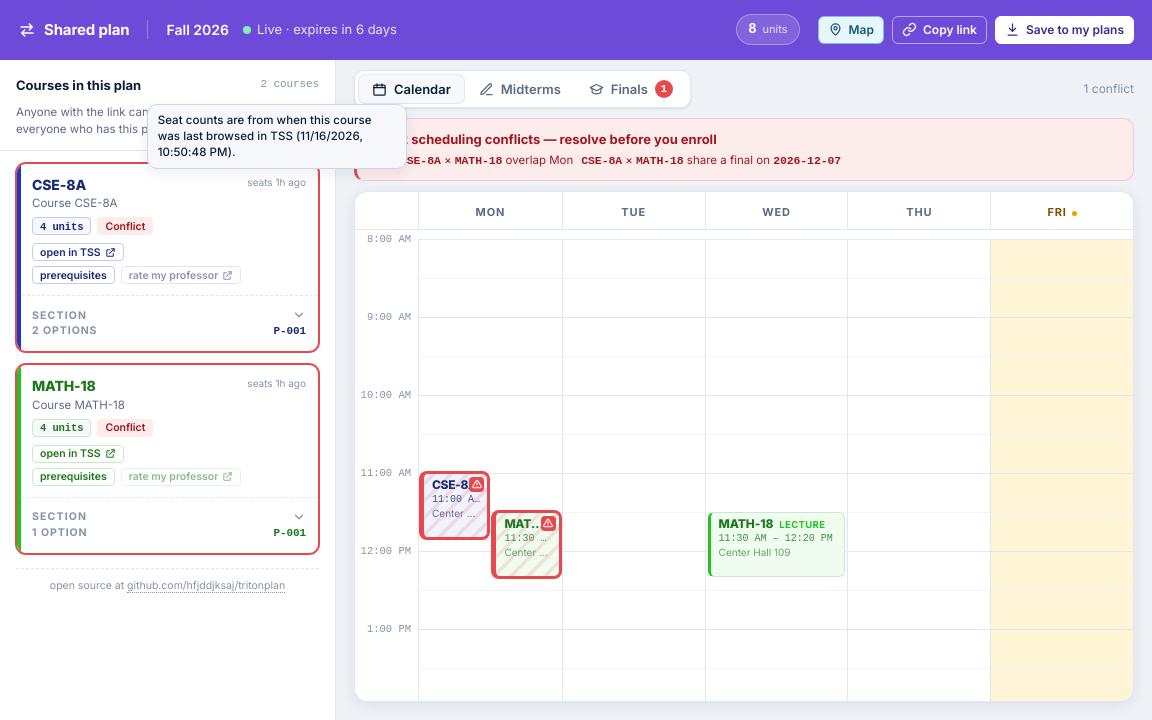
Test: SharedPlanPage: Save to my plans › replace offers the visitor's plans of the shared plan's term, asks first, and says what it replaced
Click the button "Save to my plans": [1064, 30] box x1=995 y1=16 x2=1134 y2=44
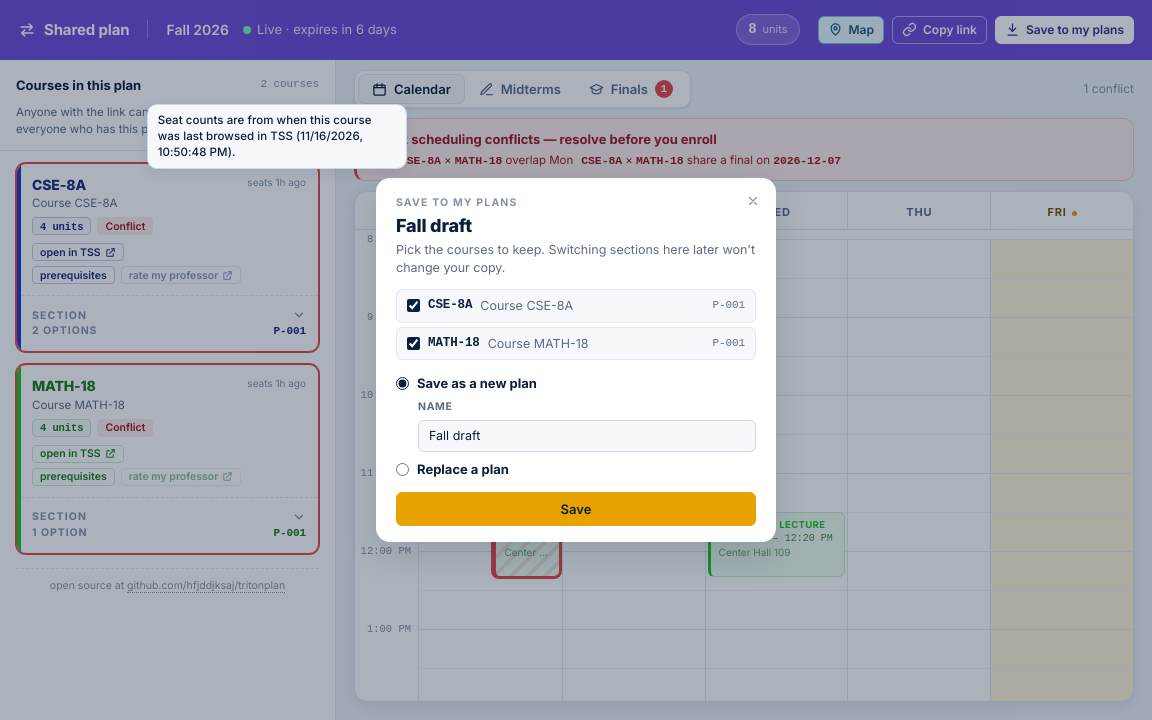
Click the label "Replace a plan": [452, 469] box x1=396 y1=461 x2=509 y2=477
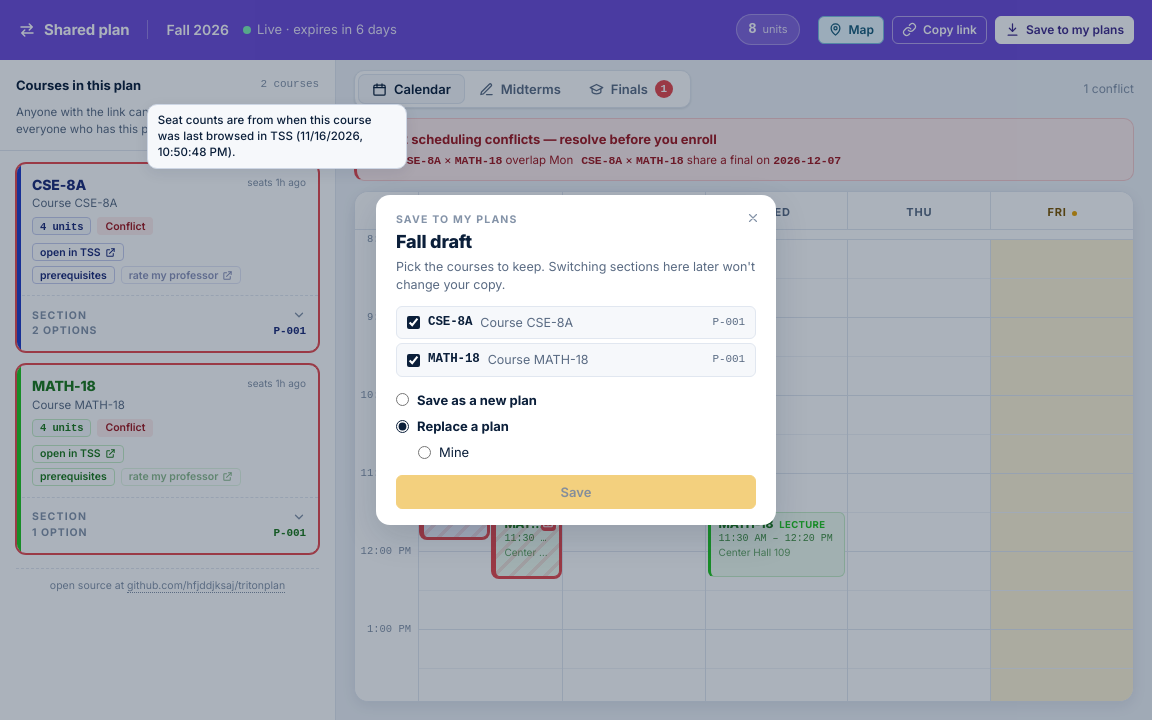
Expected: the dialog shows "Mine", x1=439 y1=444 x2=469 y2=460
Click the label "Mine": [444, 452] box x1=418 y1=444 x2=469 y2=460
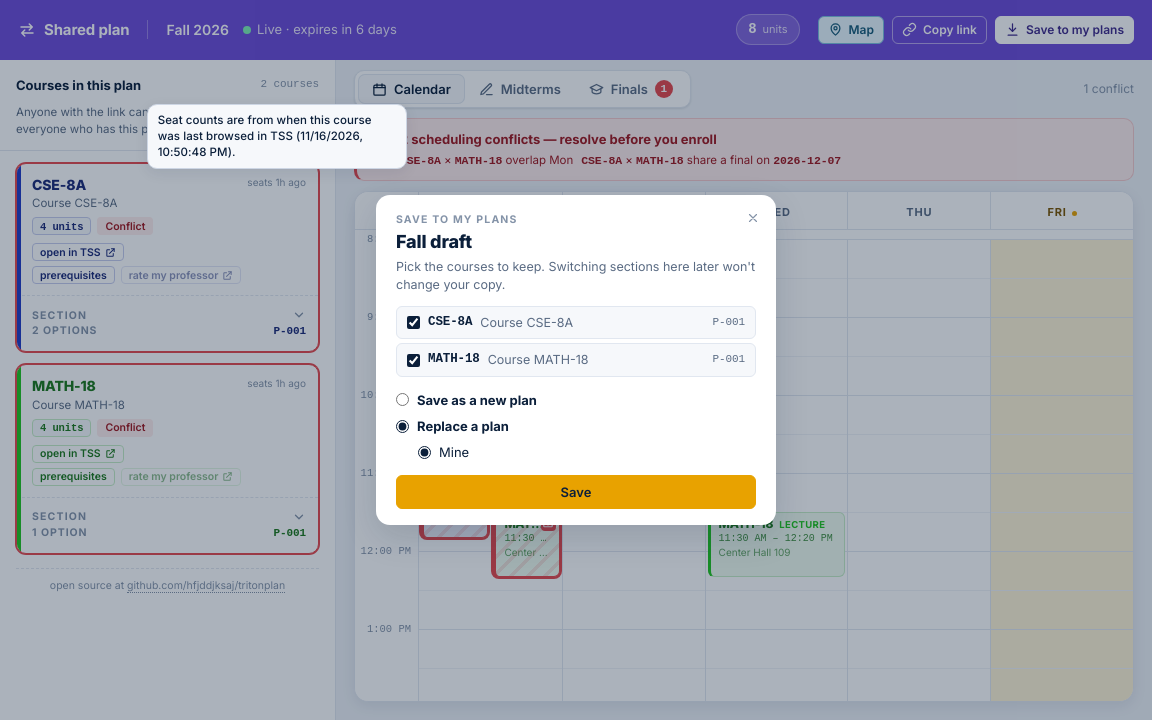
Click the button "Save": [576, 492] box x1=396 y1=475 x2=756 y2=509
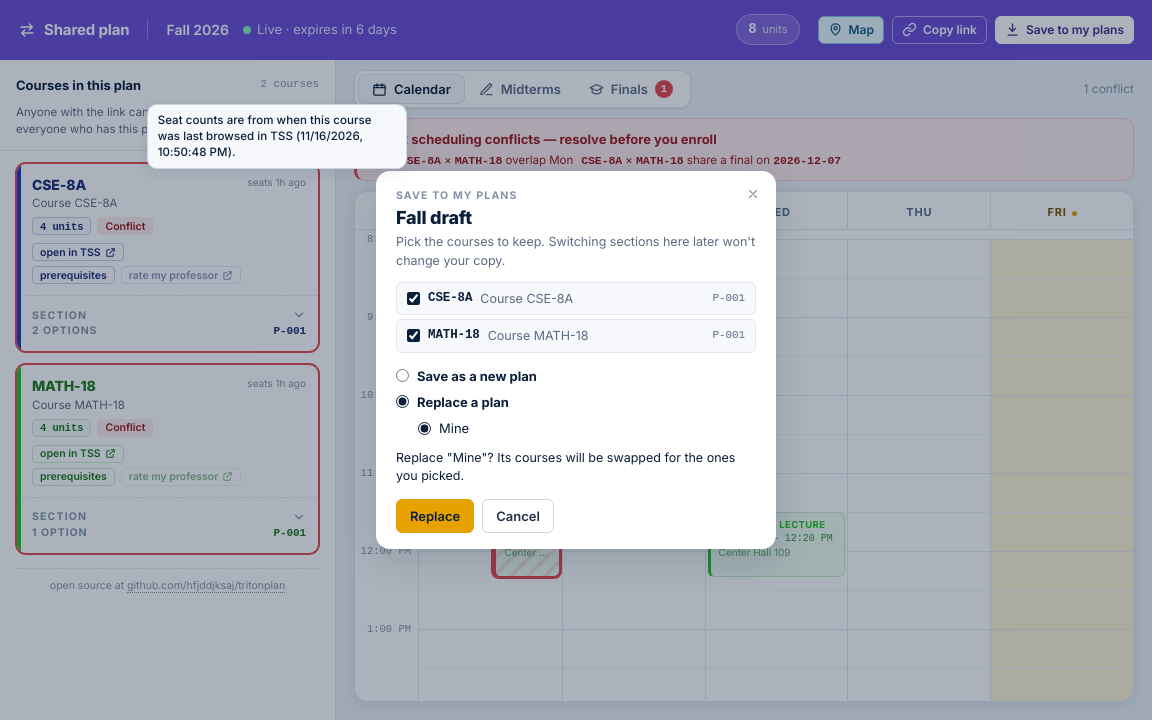
Click the button "Replace": [435, 516] box x1=396 y1=500 x2=474 y2=534
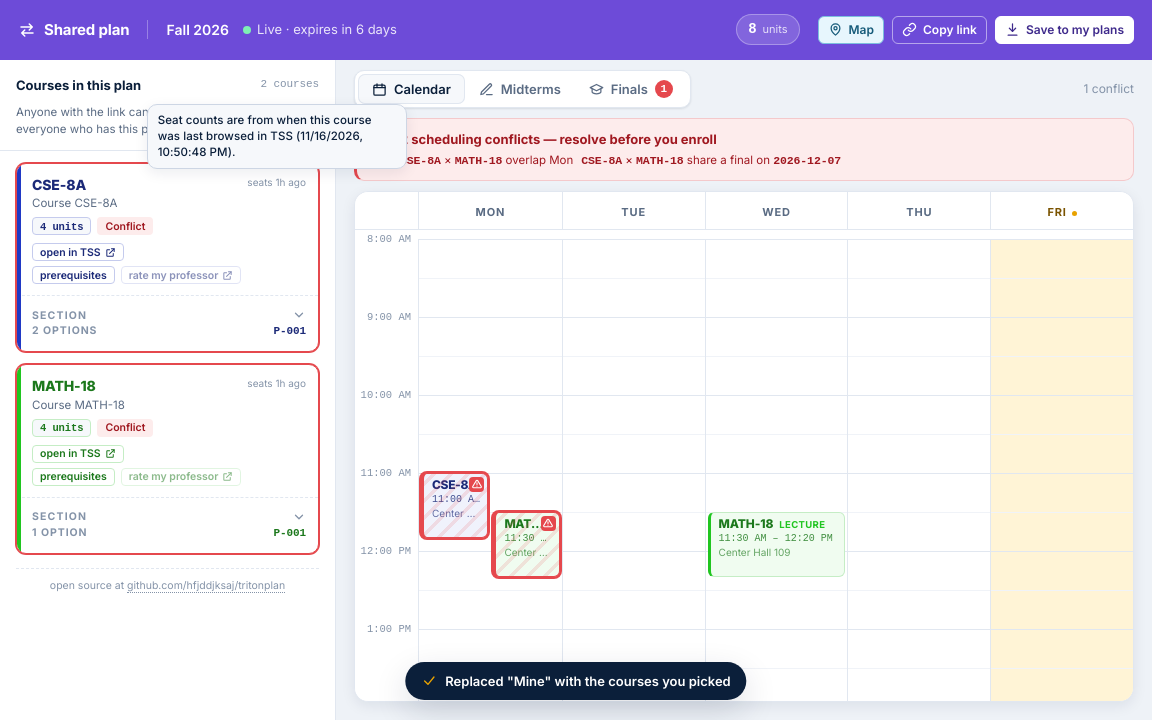
Expected: the message with class "toast" reads "Replaced \"Mine\" with the courses you picked", x1=445 y1=673 x2=731 y2=689
